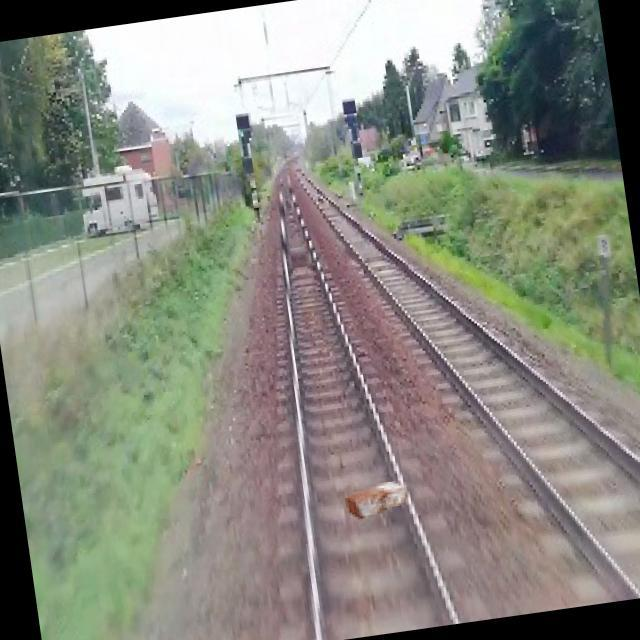danger: (337, 477, 420, 521)
rail: (265, 172, 506, 640)
